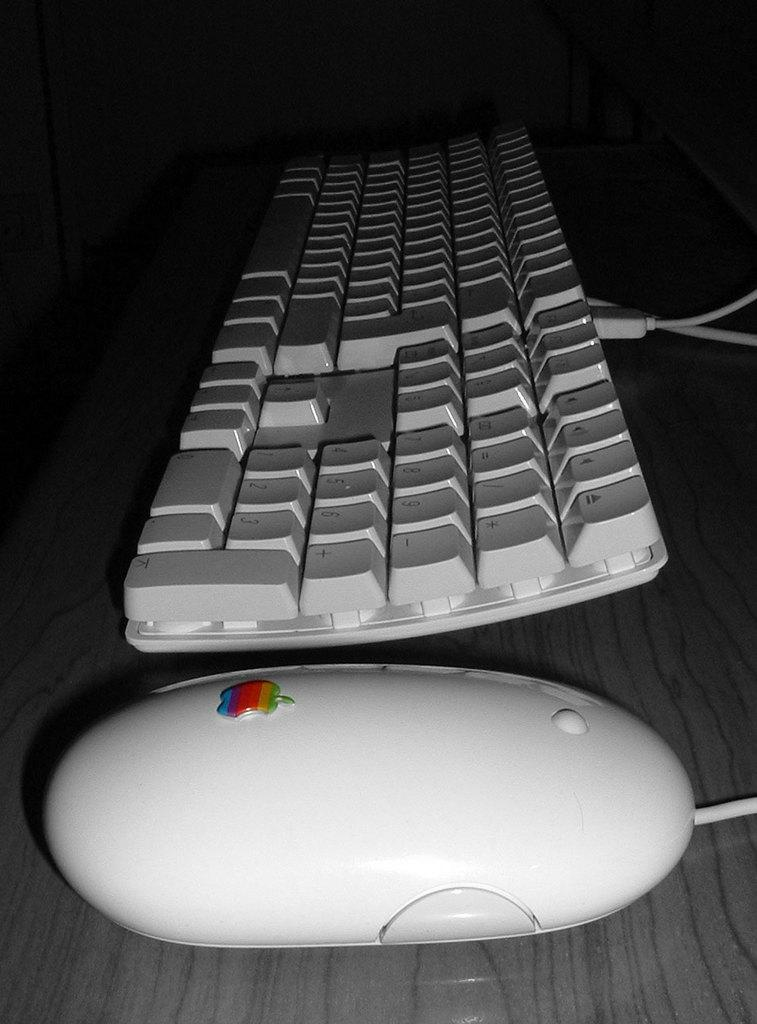Computer-mouse: (46, 664, 695, 952)
